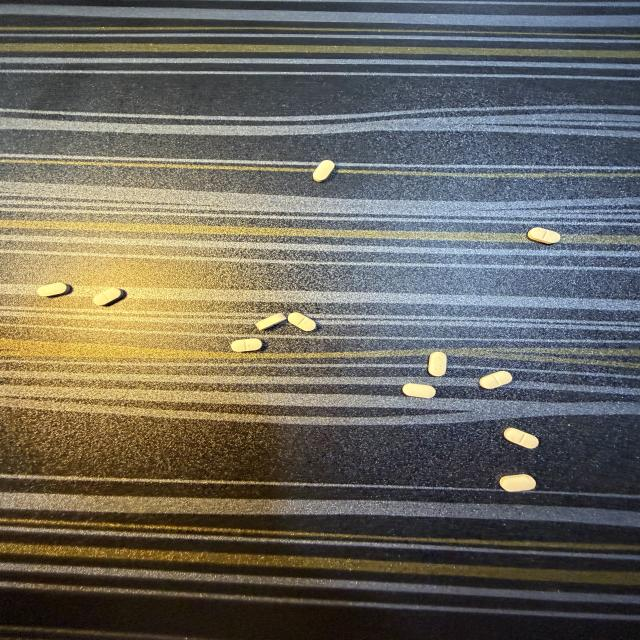pill: (504, 428, 539, 448), (500, 474, 536, 491), (479, 371, 512, 389), (527, 228, 560, 244), (93, 288, 124, 305), (288, 313, 316, 331), (256, 314, 286, 330), (402, 384, 435, 398), (313, 160, 334, 182), (428, 352, 446, 376), (37, 283, 70, 296), (231, 339, 262, 352)
